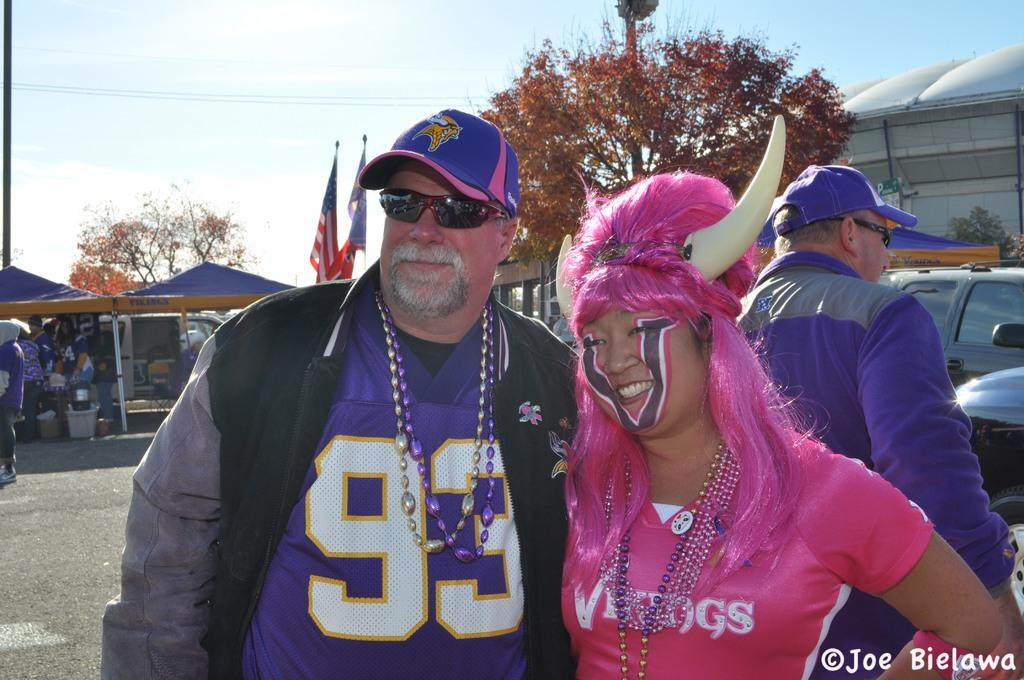Hat: (356, 108, 520, 218), (770, 165, 922, 237)
